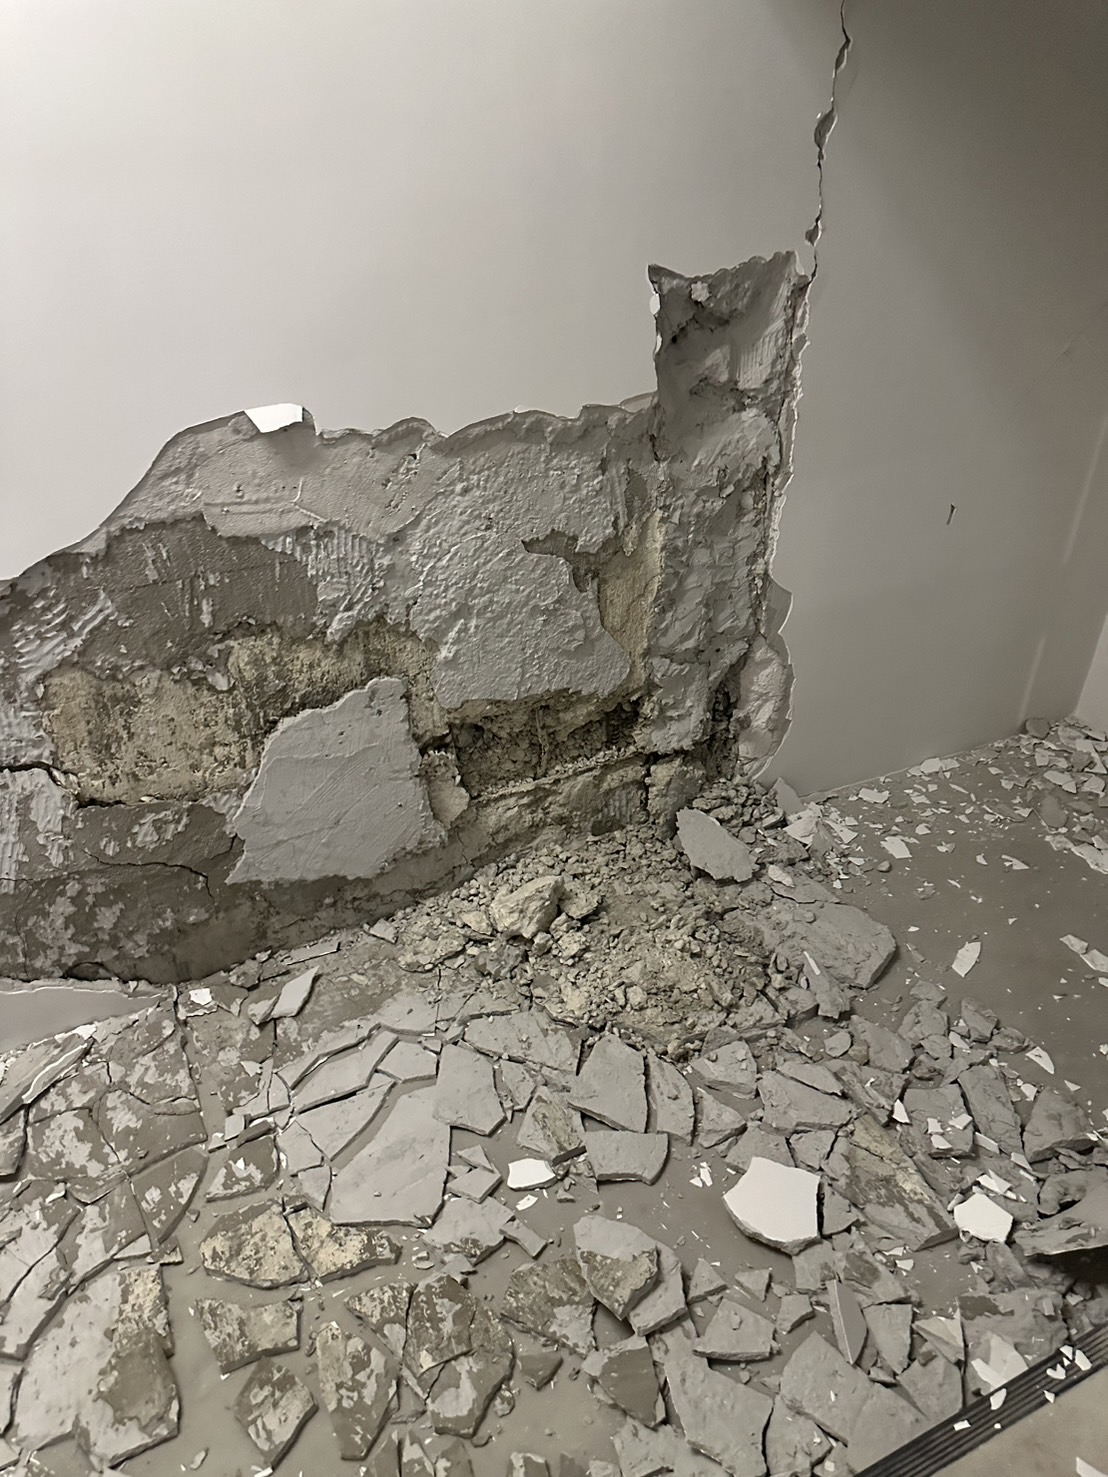High: (5, 1, 862, 1000)
